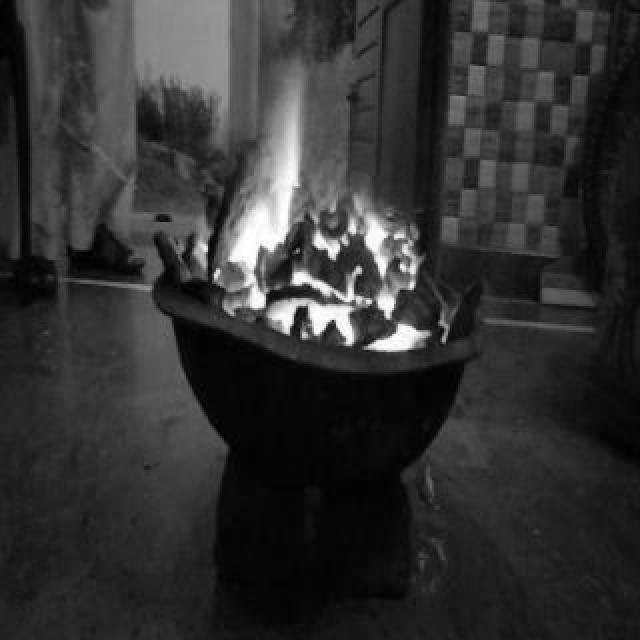Fire: (226, 92, 378, 298)
